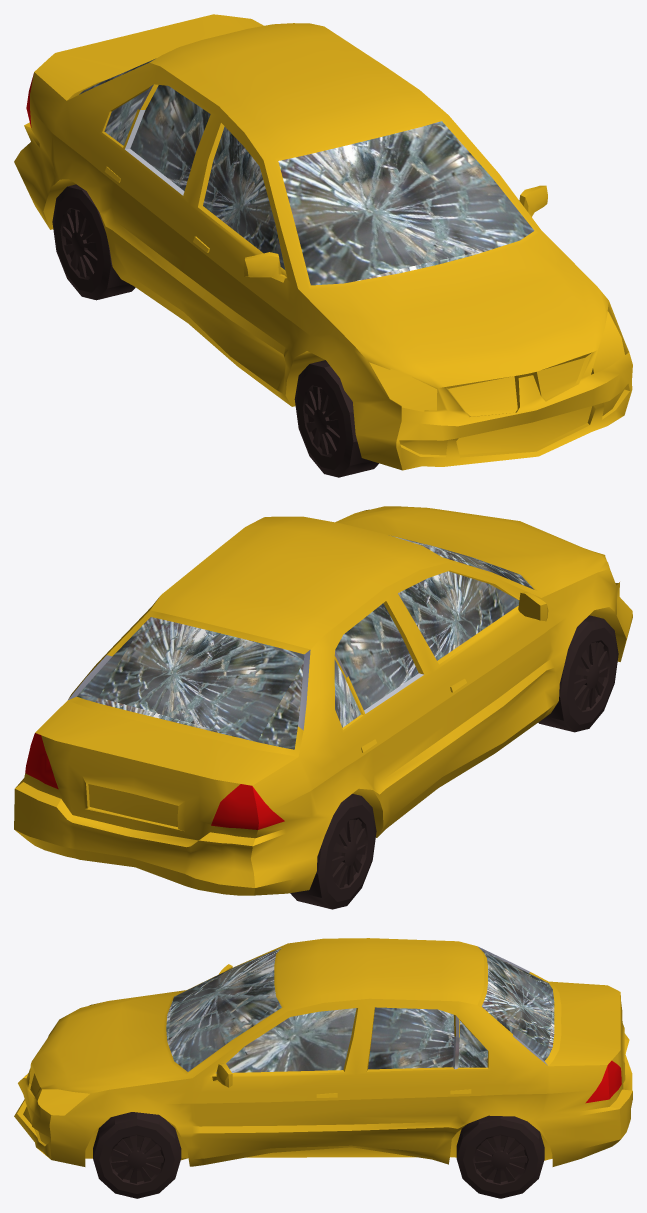
The model's file is mobil rusak.fbx.
3 renders of one model, top to bottom at view 1: azimuth 30°, elevation 25°; view 2: azimuth 150°, elevation 25°; view 3: azimuth 270°, elevation 25°, orthographic. The views are drawn at different scales.
Parts seen in each view (by area): view 1: polisisedan, Cylinder.001; view 2: polisisedan, Cylinder.001; view 3: polisisedan, Cylinder.001.
Boxes of the visible parts, x1,y1,x2,y2 form: polisisedan: (14,14,632,470); Cylinder.001: (52,184,378,477); polisisedan: (14,506,632,895); Cylinder.001: (290,615,618,909); polisisedan: (14,938,632,1166); Cylinder.001: (93,1112,544,1198).
Size of the model in its own units: 194 by 151 by 456.
